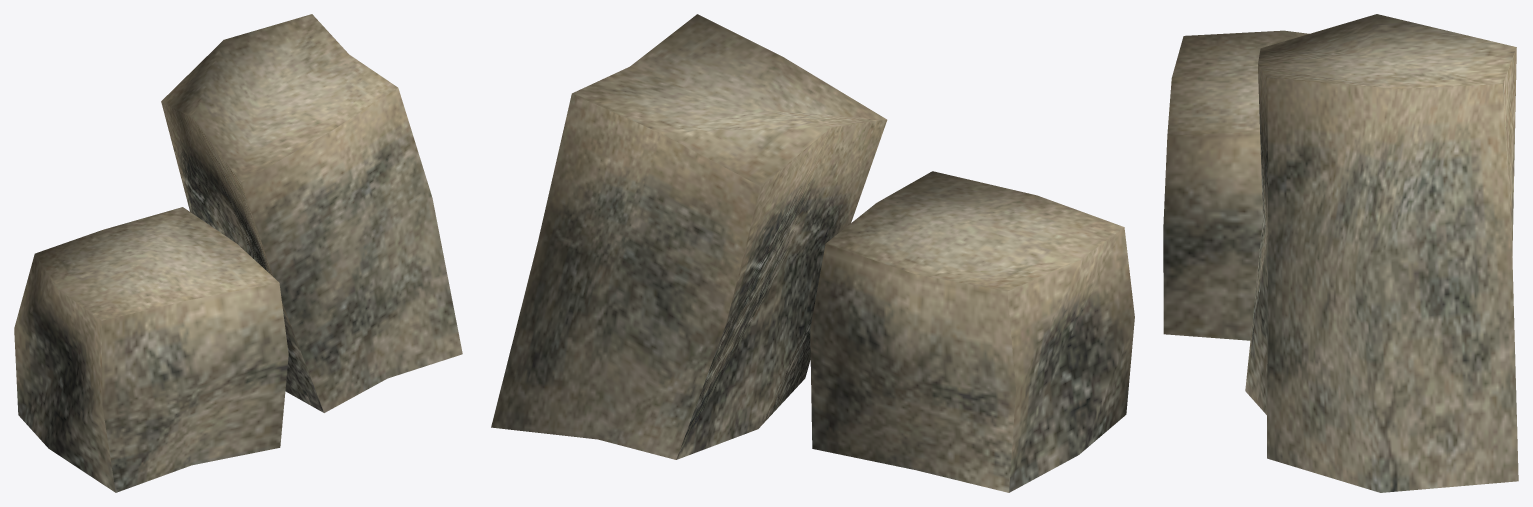
File: desert-bigstone04.fbx
3 views of the same model, side by side, from view 1: azimuth 30°, elevation 25°; view 2: azimuth 150°, elevation 25°; view 3: azimuth 270°, elevation 25° (orthographic). The views are drawn at different scales.
Parts seen in each view (by area): view 1: desert_bigstone; view 2: desert_bigstone; view 3: desert_bigstone.
Boxes of the visible parts, bbox=[...] form: desert_bigstone: bbox=[14, 14, 462, 492]; desert_bigstone: bbox=[491, 14, 1134, 492]; desert_bigstone: bbox=[1163, 14, 1518, 492].
Size of the model in its own units: 5.46 by 3.7 by 3.27.
